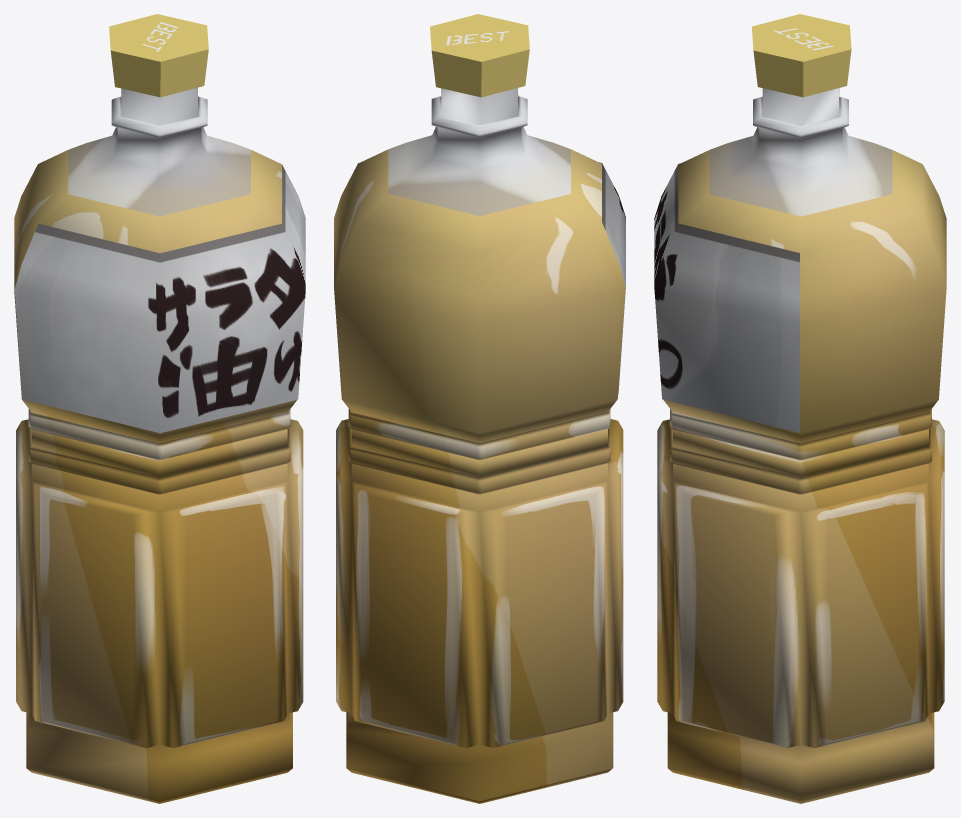
Rendered from Oil_Vegetable.fbx.
The picture shows the model from 3 angles, left to right: view 1: azimuth 30°, elevation 25°; view 2: azimuth 150°, elevation 25°; view 3: azimuth 270°, elevation 25°; orthographic projection.
Parts seen in each view (by area): view 1: Oil_Vegetable; view 2: Oil_Vegetable; view 3: Oil_Vegetable.
Boxes of the visible parts, x1,y1,x2,y2 form: Oil_Vegetable: [14, 14, 305, 803]; Oil_Vegetable: [334, 14, 625, 803]; Oil_Vegetable: [654, 14, 946, 803].
Size of the model in its own units: 53.81 by 124 by 46.76.
Materials: 1 (1 with a texture image).
